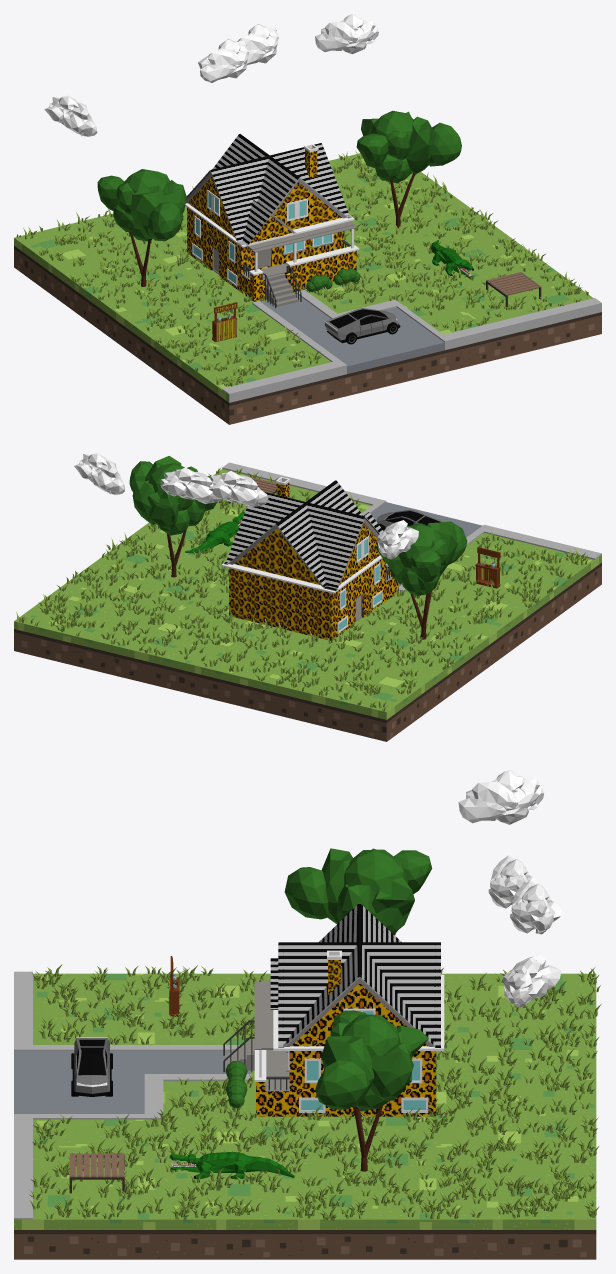
3 views of the same model, one above another, from view 1: azimuth 30°, elevation 25°; view 2: azimuth 150°, elevation 25°; view 3: azimuth 270°, elevation 25° (orthographic). The views are drawn at different scales.
Parts seen in each view (by area): view 1: Cube.006, Cube.637, Circle.012_Grass_0.192, Cube.007, tree, tree.001, VEHICLES_CYBERTRUCK, Cube.009, ANIMAL_COCODRILO, OBJRANDOM_LEMONADE_STAND; view 2: Cube.006, Cube.637, Circle.012_Grass_0.192, Cube.007, tree.001, tree, ANIMAL_COCODRILO, OBJRANDOM_LEMONADE_STAND, VEHICLES_CYBERTRUCK; view 3: Cube.006, Circle.012_Grass_0.192, Cube.637, tree, Cube.007, tree.001, VEHICLES_CYBERTRUCK, ANIMAL_COCODRILO, Cube.009.
Part boxes in pixels (x1,y1,x2,y2): Cube.006: (14,153,601,424); Cube.637: (185,134,359,308); Circle.012_Grass_0.192: (16,150,588,386); Cube.007: (44,14,378,136); tree: (356,110,461,228); tree.001: (97,169,186,286); VEHICLES_CYBERTRUCK: (325,308,400,344); Cube.009: (486,272,541,306); ANIMAL_COCODRILO: (431,240,473,278); OBJRANDOM_LEMONADE_STAND: (212,302,237,342); Cube.006: (14,462,601,741); Cube.637: (221,477,398,640); Circle.012_Grass_0.192: (16,468,588,711); Cube.007: (74,453,418,559); tree.001: (375,521,467,639); tree: (129,456,216,577); ANIMAL_COCODRILO: (185,511,244,553); OBJRANDOM_LEMONADE_STAND: (475,547,500,588); VEHICLES_CYBERTRUCK: (376,509,444,530); Cube.006: (14,971,596,1259); Circle.012_Grass_0.192: (29,964,601,1220); Cube.637: (223,903,444,1116); tree: (315,1010,428,1171); Cube.007: (458,770,561,1007); tree.001: (284,848,432,935); VEHICLES_CYBERTRUCK: (71,1037,112,1096); ANIMAL_COCODRILO: (169,1152,294,1179); Cube.009: (69,1153,124,1193).
Bounding box in the file's own units: 4071 × 2176 × 4040.
Materials: 40 (4 with a texture image).
